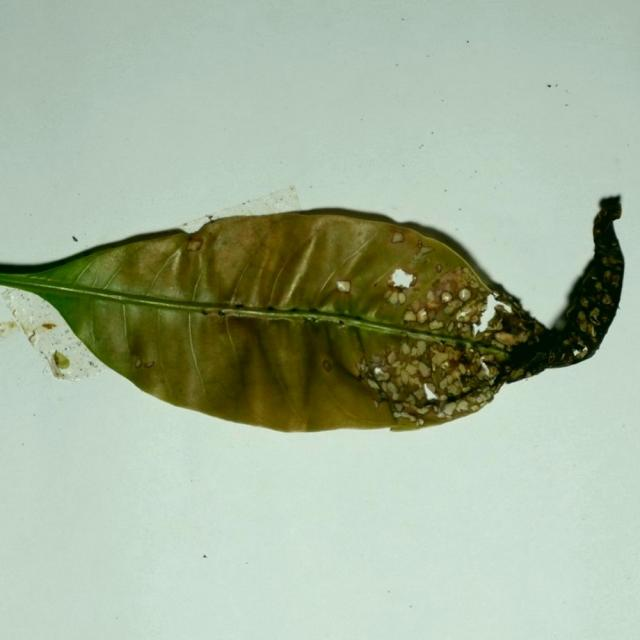Anthracnose: (83, 235, 244, 410), (196, 219, 324, 299), (369, 337, 470, 419), (469, 291, 543, 388), (367, 268, 431, 326), (571, 266, 620, 338)
Mango: (0, 197, 625, 435)
